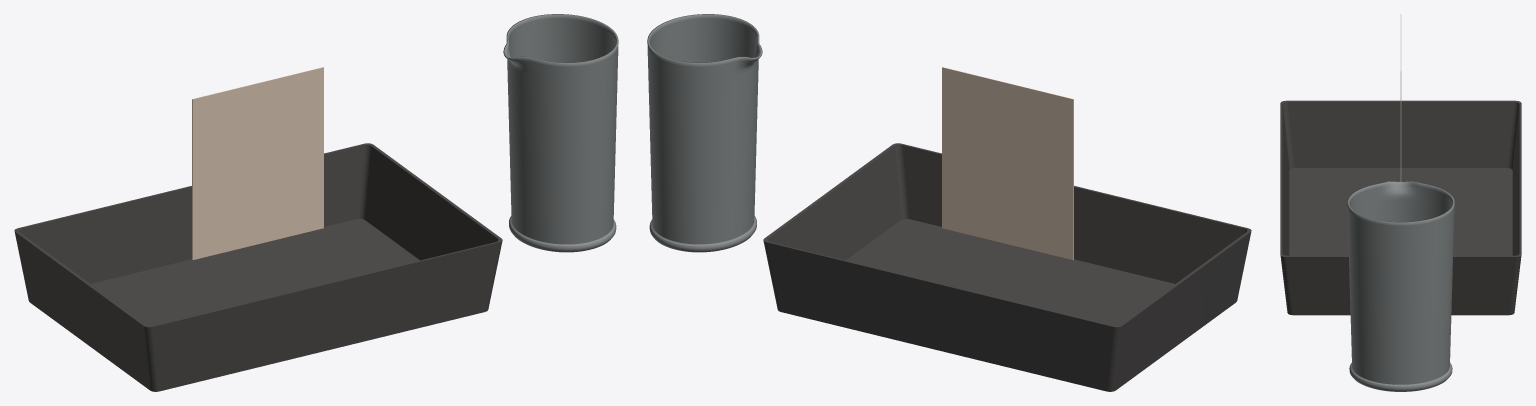
File: demo_step4_bakedanim.glb
The picture shows the model from 3 angles, left to right: view 1: azimuth 30°, elevation 25°; view 2: azimuth 150°, elevation 25°; view 3: azimuth 270°, elevation 25°; orthographic projection. The views are drawn at different scales.
Visible parts, largest first — view 1: tray.002, graduatedCylinder.003, paper; view 2: tray.002, graduatedCylinder.003, paper; view 3: tray.002, graduatedCylinder.003, paper.
Boxes of the visible parts, left/top/right/bottom form: tray.002: left=14, top=143, right=502, bottom=391; graduatedCylinder.003: left=503, top=14, right=618, bottom=252; paper: left=192, top=67, right=323, bottom=260; tray.002: left=763, top=143, right=1251, bottom=391; graduatedCylinder.003: left=647, top=14, right=762, bottom=252; paper: left=942, top=67, right=1073, bottom=260; tray.002: left=1280, top=100, right=1521, bottom=315; graduatedCylinder.003: left=1347, top=181, right=1454, bottom=391; paper: left=1400, top=14, right=1401, bottom=181.
Bounding box in the file's own units: 22.31 × 8.93 × 9.82.
